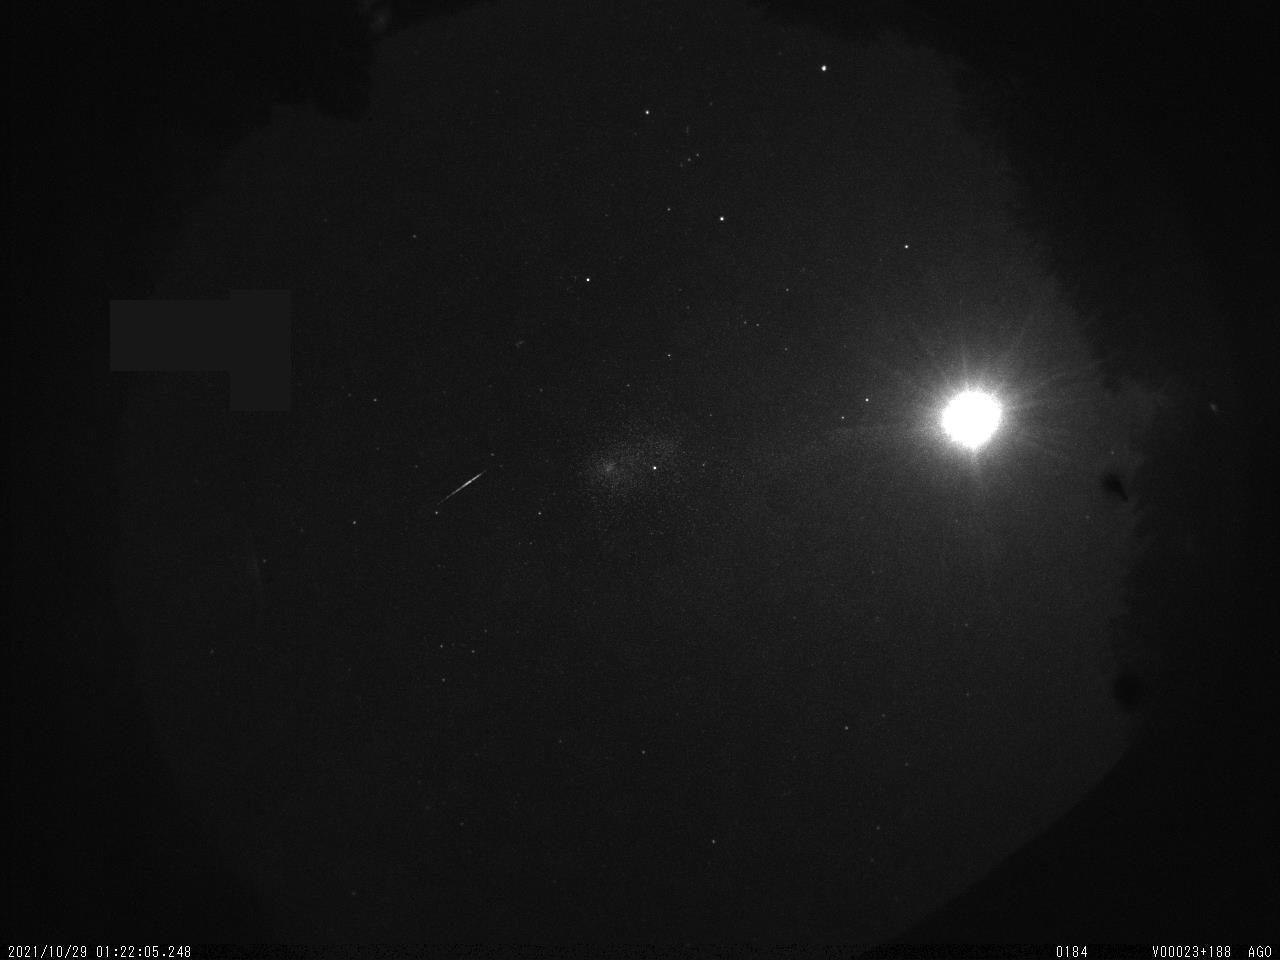meteor: (418, 461, 500, 508)
